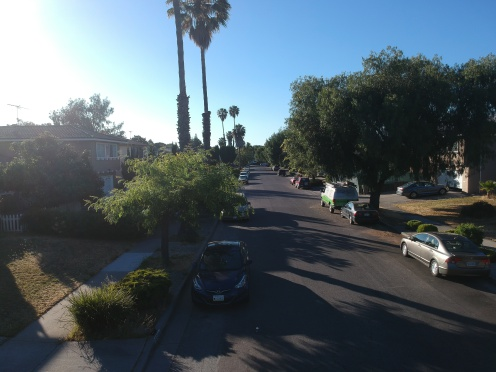can: (253, 325, 259, 334)
